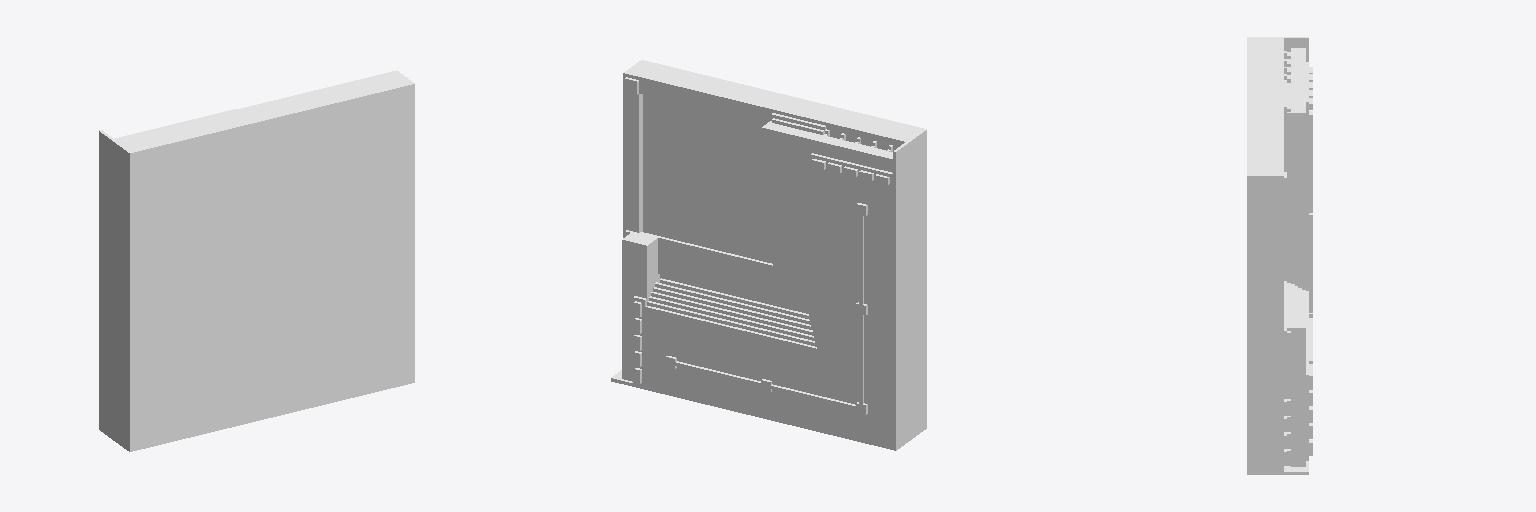
File: bedrock.obj
3 views of the same model, side by side, from view 1: azimuth 30°, elevation 25°; view 2: azimuth 150°, elevation 25°; view 3: azimuth 270°, elevation 25° (orthographic).
Visible parts, largest first — view 1: blendermcpefluidtesetbedrock_-_Copy__-48_0_-48_to_42_255_42; view 2: blendermcpefluidtesetbedrock_-_Copy__-48_0_-48_to_42_255_42; view 3: blendermcpefluidtesetbedrock_-_Copy__-48_0_-48_to_42_255_42.
Part boxes in pixels (bbox=[...]): blendermcpefluidtesetbedrock_-_Copy__-48_0_-48_to_42_255_42: bbox=[99, 70, 414, 451]; blendermcpefluidtesetbedrock_-_Copy__-48_0_-48_to_42_255_42: bbox=[611, 60, 926, 450]; blendermcpefluidtesetbedrock_-_Copy__-48_0_-48_to_42_255_42: bbox=[1247, 37, 1312, 474].
Bounding box in the file's own units: 90 × 90 × 18.